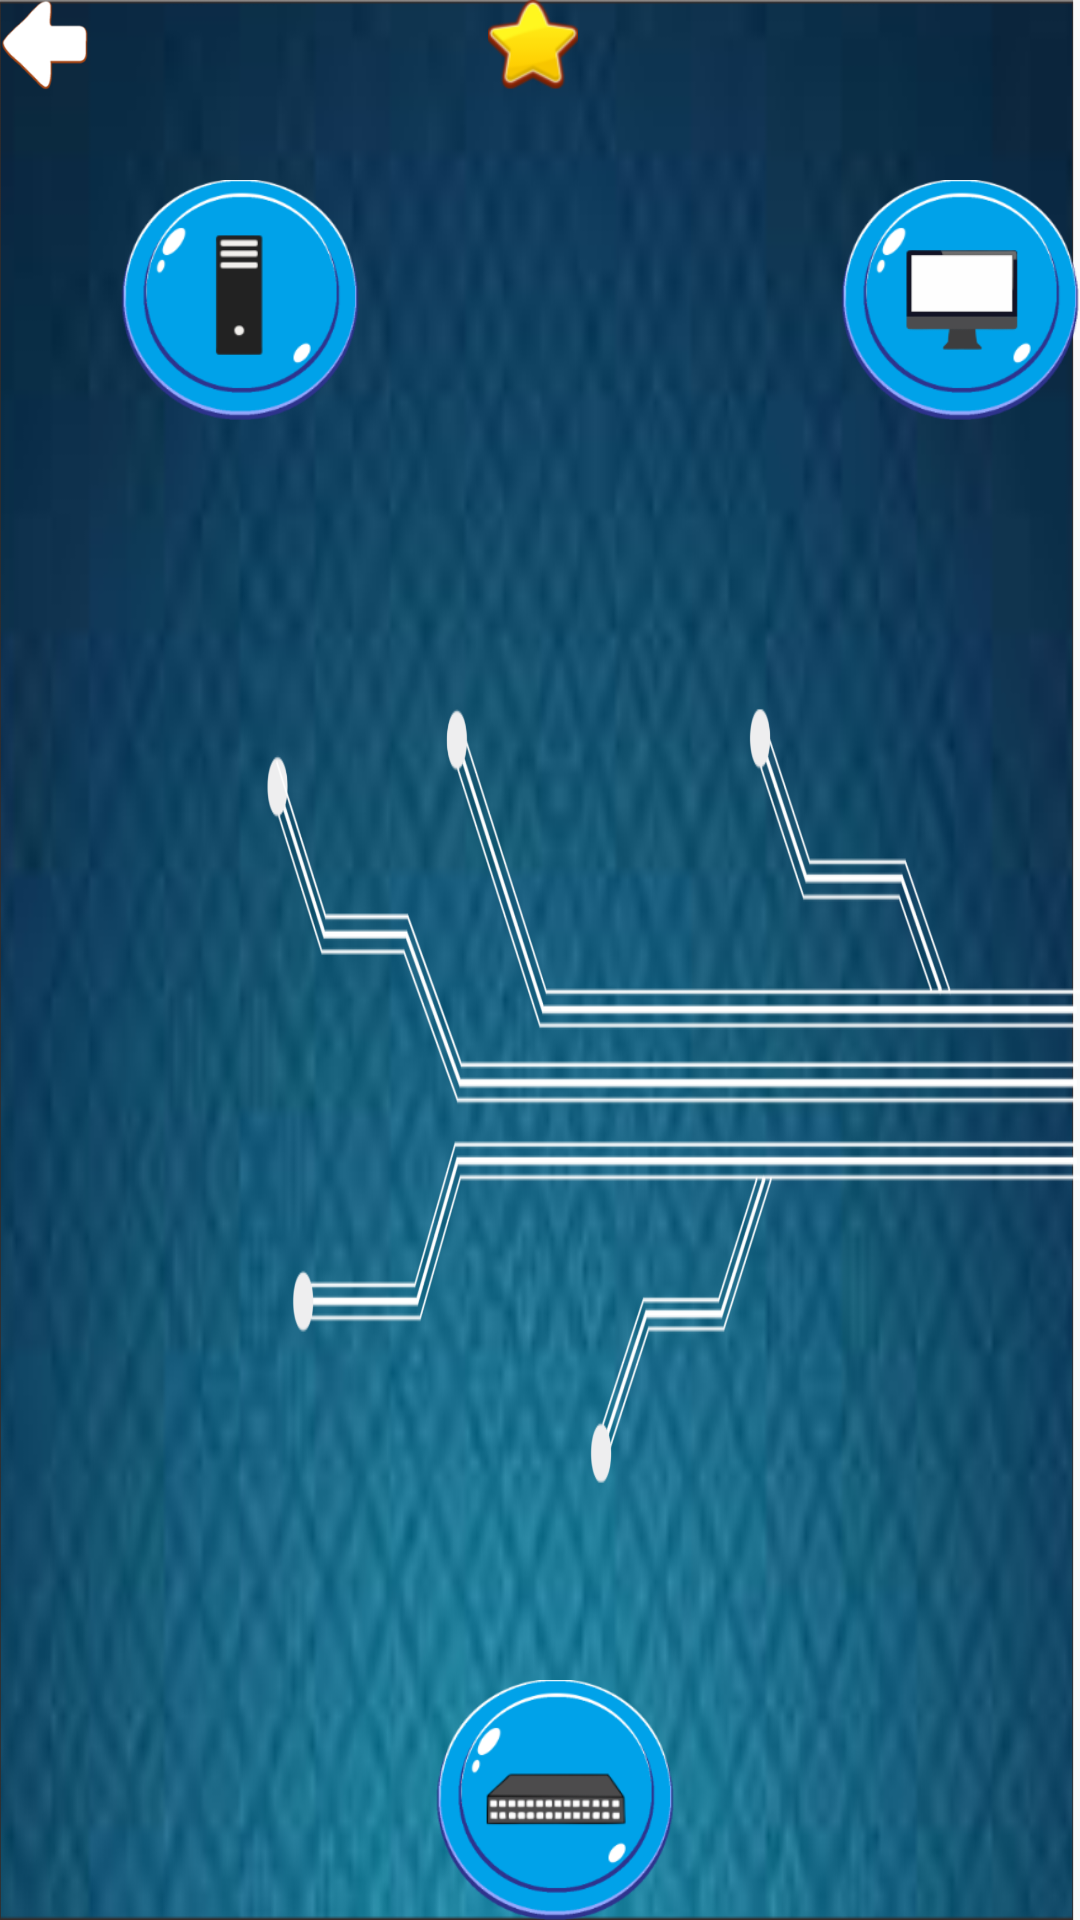

Point at icon controls on the screen. Image size 1080 × 1920, points as (x,y).
part jaringan: (241,300), (960,300), (555,1800)
